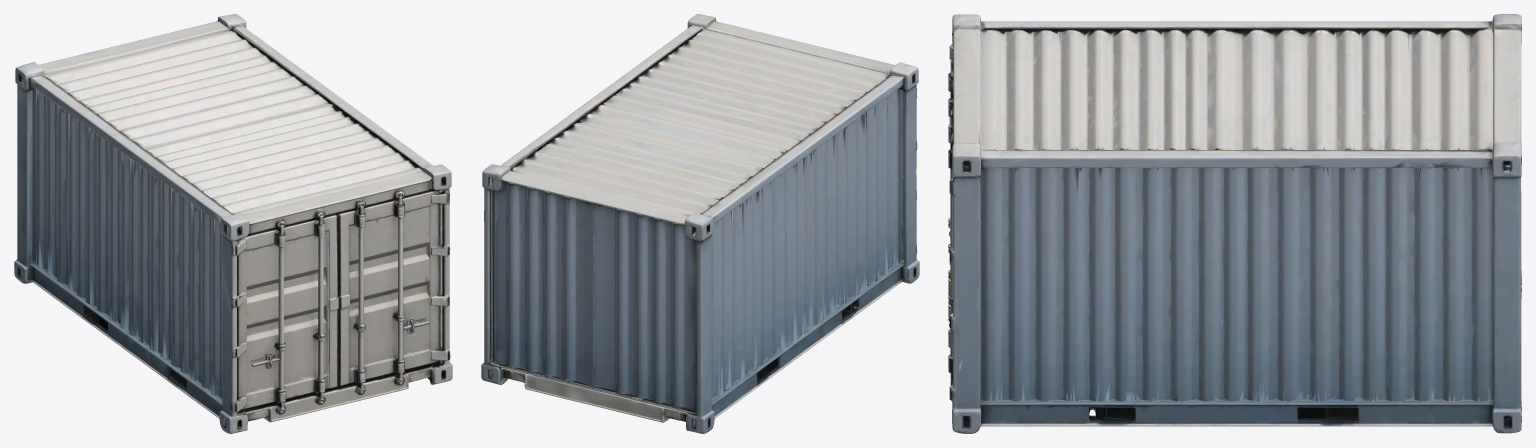
The model's file is shipping_container_d50ffbf4_v1.glb.
The picture shows the model from 3 angles, left to right: view 1: azimuth 30°, elevation 25°; view 2: azimuth 150°, elevation 25°; view 3: azimuth 270°, elevation 25°; orthographic projection. The views are drawn at different scales.
Visible parts, largest first — view 1: material; view 2: material; view 3: material.
Boxes of the visible parts, x1,y1,x2,y2 form: material: [14, 14, 452, 433]; material: [481, 14, 919, 433]; material: [948, 14, 1521, 433].
Bounding box in the file's own units: 0.5598 × 0.5118 × 0.946.
Materials: 1 (1 with a texture image).
